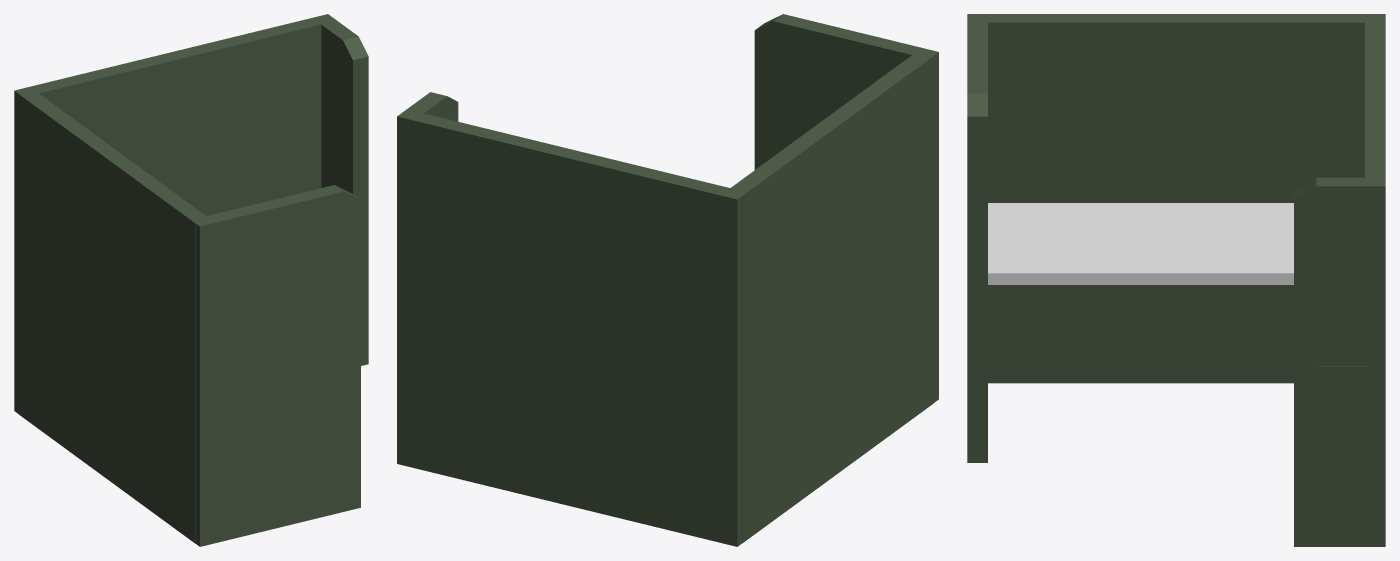
File: Cubcile.fbx
3 renders of one model, left to right at view 1: azimuth 30°, elevation 25°; view 2: azimuth 150°, elevation 25°; view 3: azimuth 270°, elevation 25°, orthographic. The views are drawn at different scales.
Visible parts, largest first — view 1: Cube; view 2: Cube; view 3: Cube.
Boxes of the visible parts, box(x1,y1,x2,y2) form: Cube: box(14, 14, 368, 546); Cube: box(397, 14, 938, 546); Cube: box(967, 14, 1385, 546).
Size of the model in its own units: 205 by 200 by 210.
